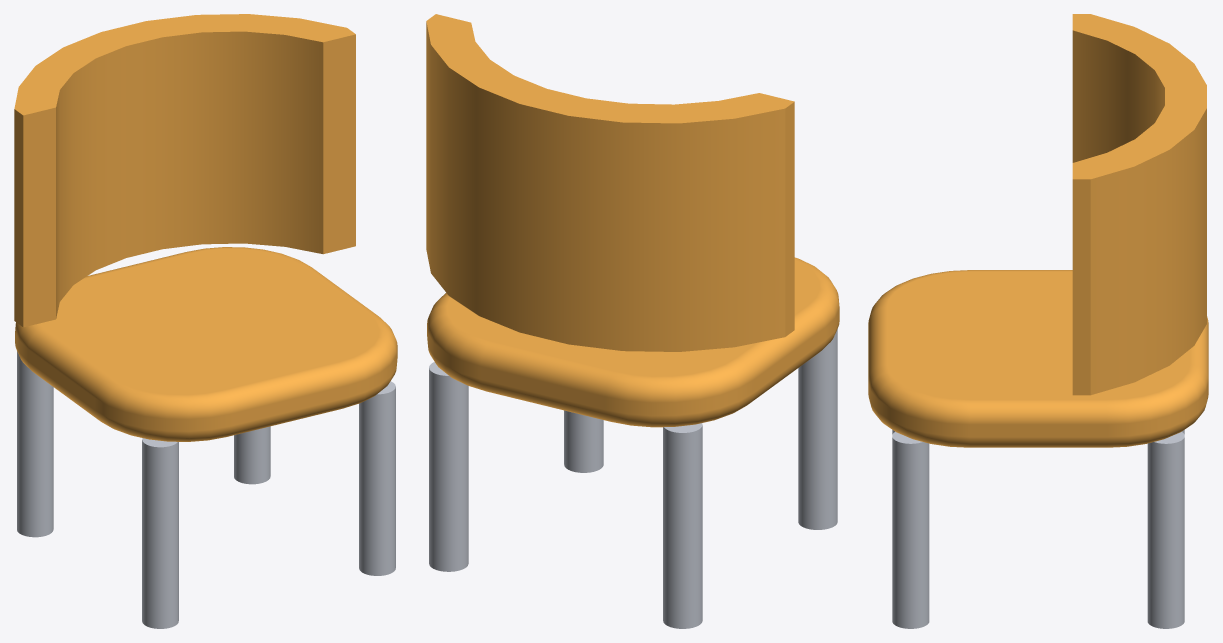
File: ChairV2.glb
The picture shows the model from 3 angles, left to right: view 1: azimuth 30°, elevation 25°; view 2: azimuth 150°, elevation 25°; view 3: azimuth 270°, elevation 25°; orthographic projection. The views are drawn at different scales.
Parts seen in each view (by area): view 1: chairShell (×2), metalLight (×4); view 2: chairShell (×2), metalLight (×4); view 3: chairShell (×2), metalLight (×2).
Part boxes in pixels (left/top/right/bottom): chairShell (×2): left=14, top=14, right=397, bottom=441; metalLight (×4): left=17, top=351, right=395, bottom=628; chairShell (×2): left=426, top=14, right=839, bottom=427; metalLight (×4): left=429, top=329, right=837, bottom=628; chairShell (×2): left=868, top=14, right=1208, bottom=447; metalLight (×2): left=892, top=431, right=1184, bottom=628.
Bounding box in the file's own units: 0.46 × 0.61 × 0.4.
